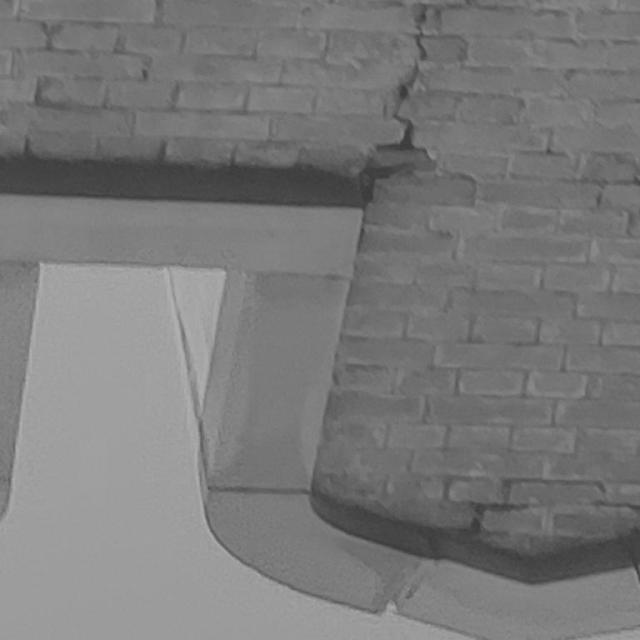crack: (358, 1, 434, 209), (463, 501, 529, 534)
